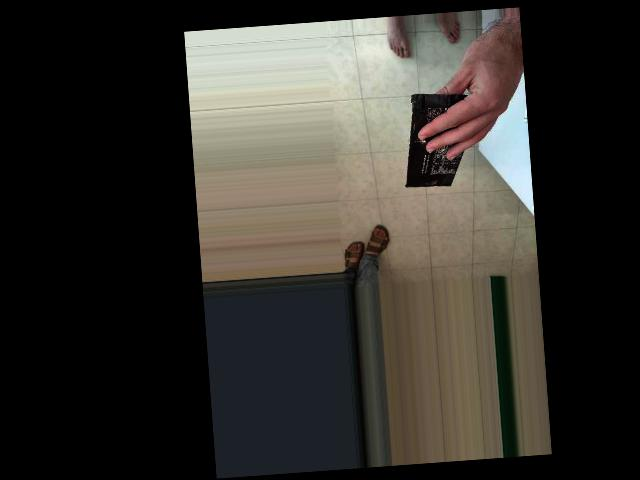chocolate: (320, 131, 441, 221)
